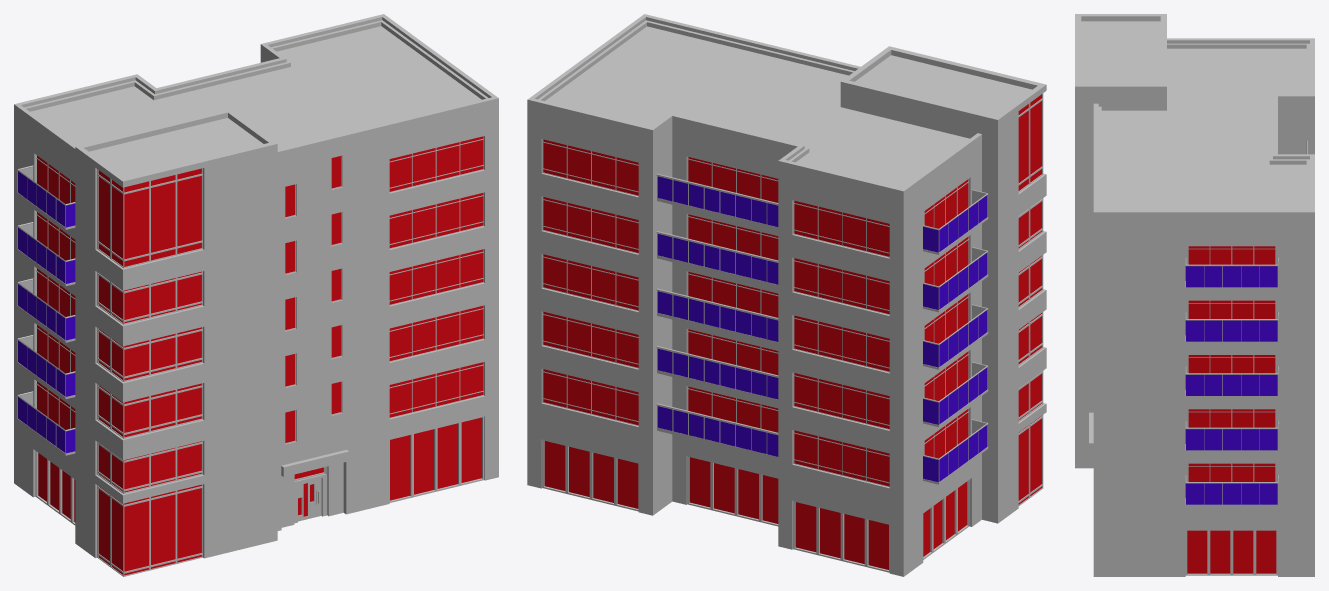
File: SM_House_06.gltf
The picture shows the model from 3 angles, left to right: view 1: azimuth 30°, elevation 25°; view 2: azimuth 150°, elevation 25°; view 3: azimuth 270°, elevation 25°; orthographic projection. The views are drawn at different scales.
Visible parts, largest first — view 1: House_06; view 2: House_06; view 3: House_06.
Part boxes in pixels (x1,y1,x2,y2): House_06: (14, 14, 498, 576); House_06: (527, 14, 1046, 576); House_06: (1075, 14, 1314, 576).
Size of the model in its own units: 26.04 by 24.6 by 14.
